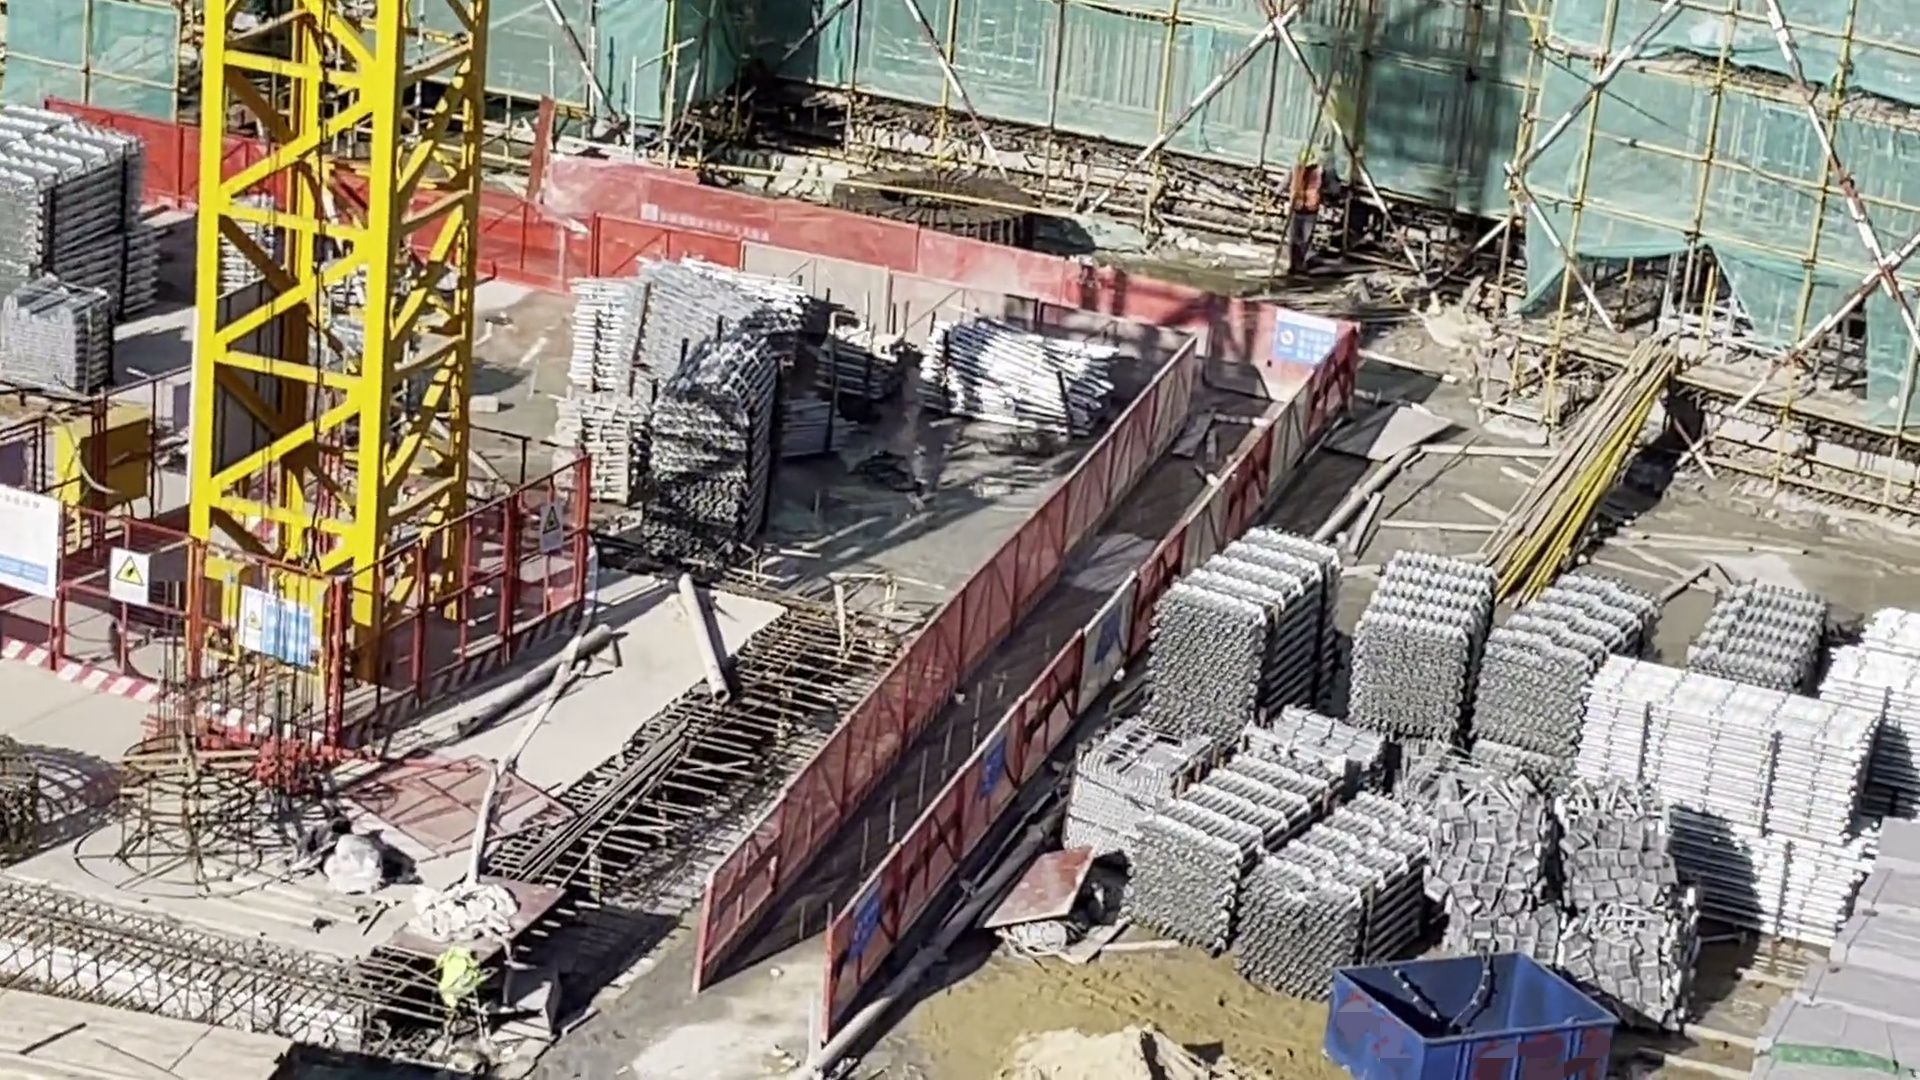ebox: (199, 541, 358, 654), (63, 414, 144, 516)
fence: (711, 653, 1094, 960), (328, 467, 581, 744), (58, 531, 326, 772), (919, 277, 1346, 411), (474, 176, 849, 322)
helmet: (1296, 147, 1321, 169)
hopper: (1316, 929, 1628, 1079)
person: (1286, 148, 1339, 268)
rebar: (509, 706, 696, 886)
scaffold: (1584, 644, 1829, 822), (1163, 539, 1339, 727), (1, 132, 181, 312), (931, 317, 1124, 441), (1131, 791, 1301, 924), (583, 267, 779, 371), (1256, 819, 1393, 942), (656, 369, 756, 526), (1464, 606, 1578, 737), (1023, 747, 1184, 832), (13, 276, 114, 391), (1384, 551, 1461, 697), (1709, 567, 1793, 692), (1861, 629, 1920, 779), (553, 404, 629, 504), (829, 316, 889, 396)
vest: (1289, 168, 1321, 211)
